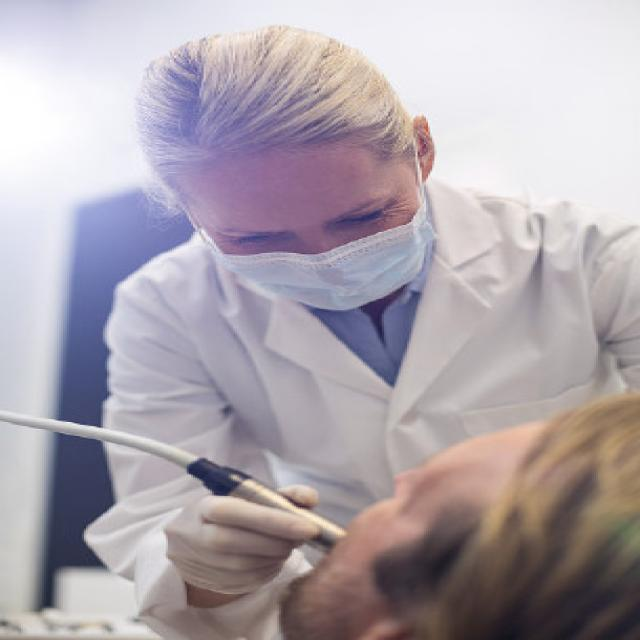mask: (208, 131, 422, 311)
